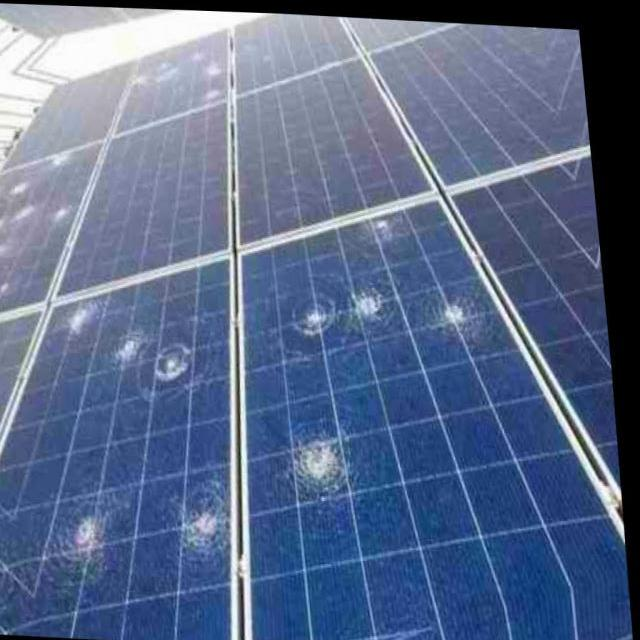cracked: (246, 203, 524, 638), (0, 248, 234, 640), (1, 140, 102, 304), (109, 11, 234, 131)
